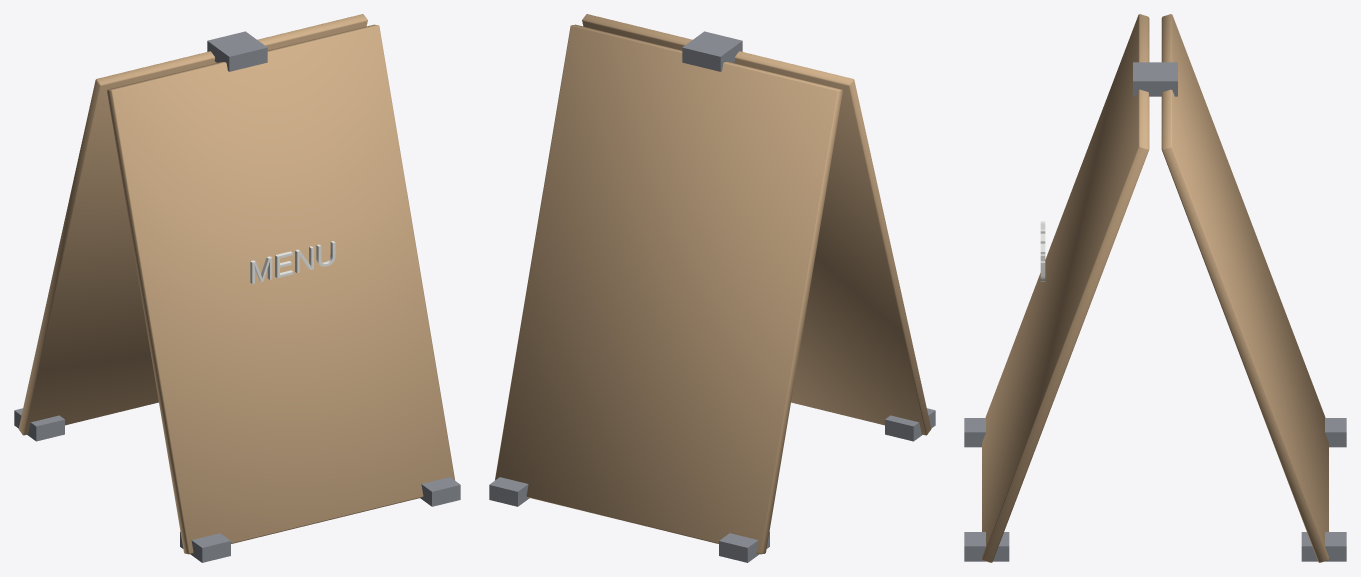
Rendered from MenuBoard_Aframe.fbx.
The picture shows the model from 3 angles, left to right: view 1: azimuth 30°, elevation 25°; view 2: azimuth 150°, elevation 25°; view 3: azimuth 270°, elevation 25°; orthographic projection.
Parts seen in each view (by area): view 1: LOD0; view 2: LOD0; view 3: LOD0.
Part boxes in pixels (box(x1,y1,x2,y2)): LOD0: box(14, 14, 460, 562); LOD0: box(489, 14, 935, 562); LOD0: box(964, 14, 1346, 562).
Size of what is drawn, in the model's own units: 56 by 83.5 by 68.
